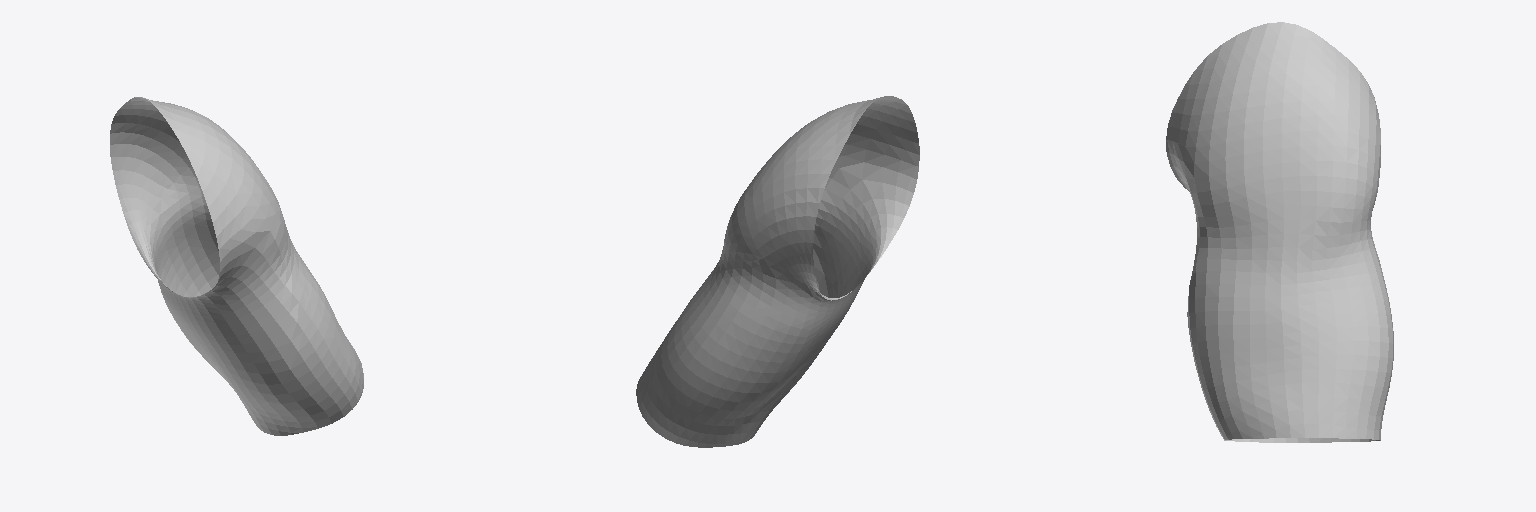
Rendered from mana1S.obj.
3 renders of one model, left to right at view 1: azimuth 30°, elevation 25°; view 2: azimuth 150°, elevation 25°; view 3: azimuth 270°, elevation 25°, orthographic.
Visible parts, largest first — view 1: mana1S; view 2: mana1S; view 3: mana1S.
Boxes of the visible parts, box(x1,y1,x2,y2) form: mana1S: box(110, 97, 363, 435); mana1S: box(636, 96, 919, 447); mana1S: box(1166, 22, 1393, 442).
Bounding box in the file's own units: 2.19 × 3.55 × 2.02.